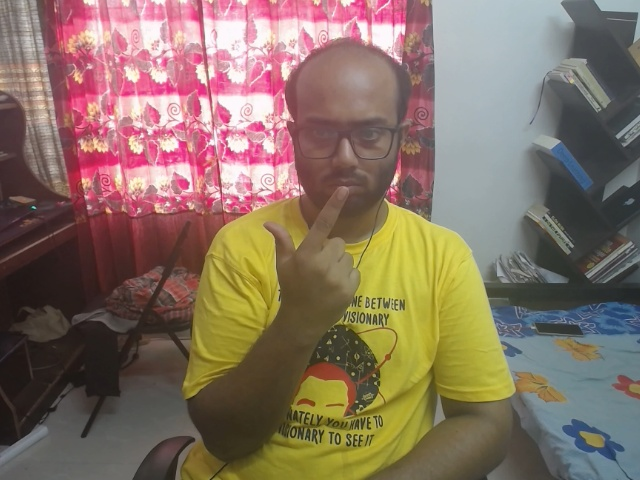seven: (255, 166, 398, 332)
